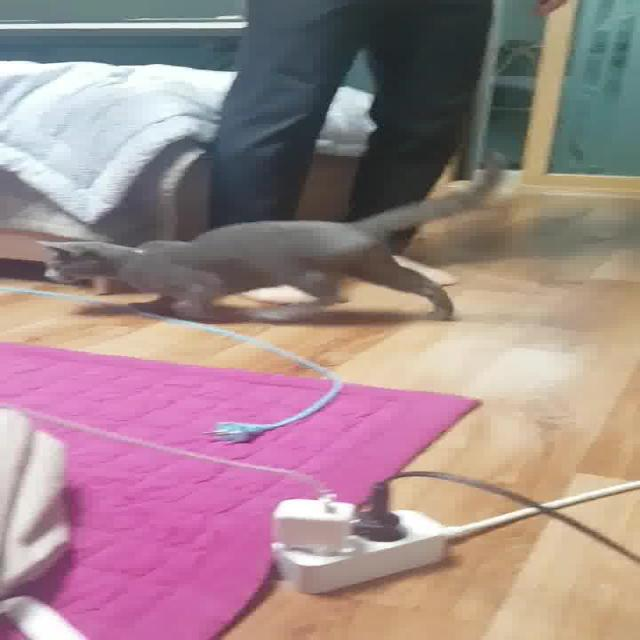cat: (27, 148, 517, 328)
